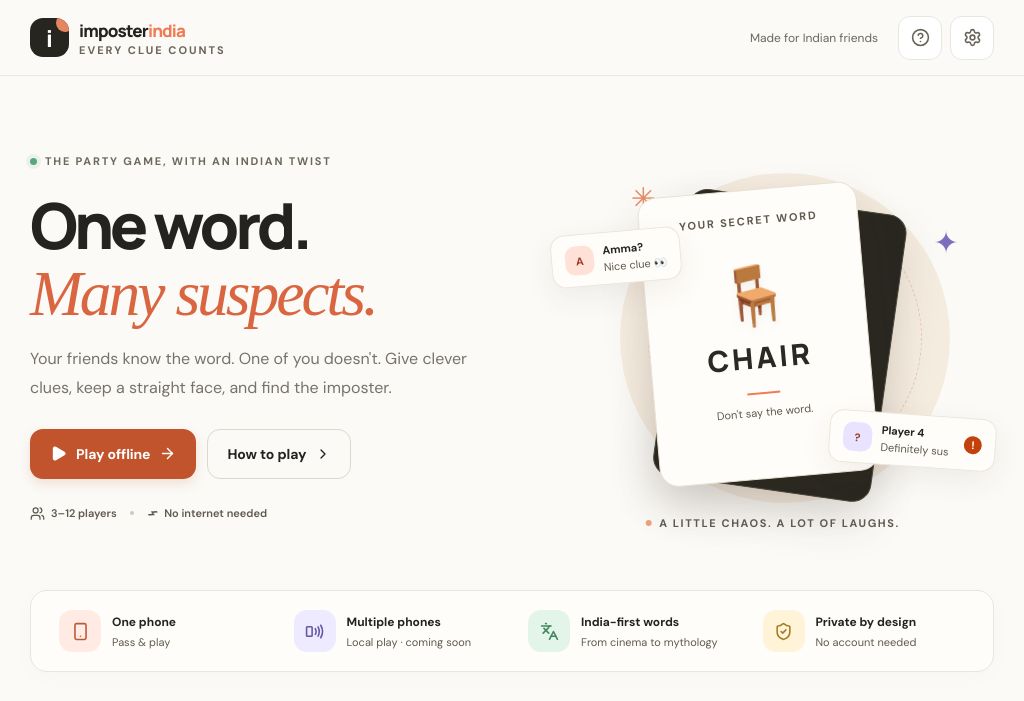
Test case: App: language filter on the setup screen › explains an empty pool and disables the start button
Click the button "Play offline".
click(113, 454)  # box [30,429,196,479]
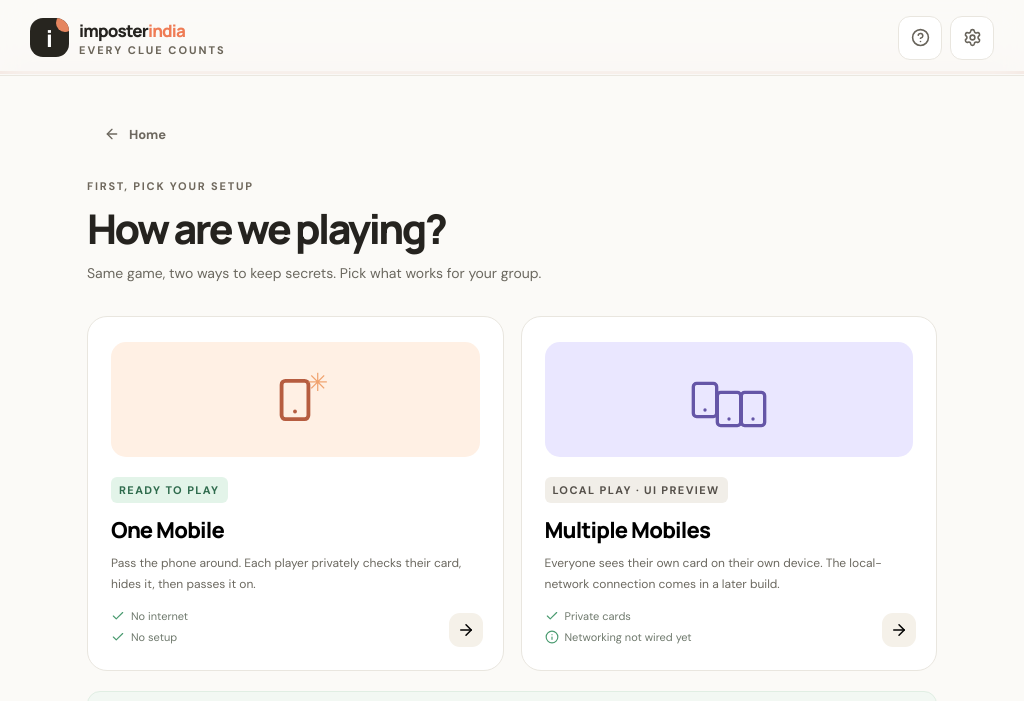
Click the button "One Mobile".
click(295, 400)  # box [87,316,504,671]
(page scrolled)
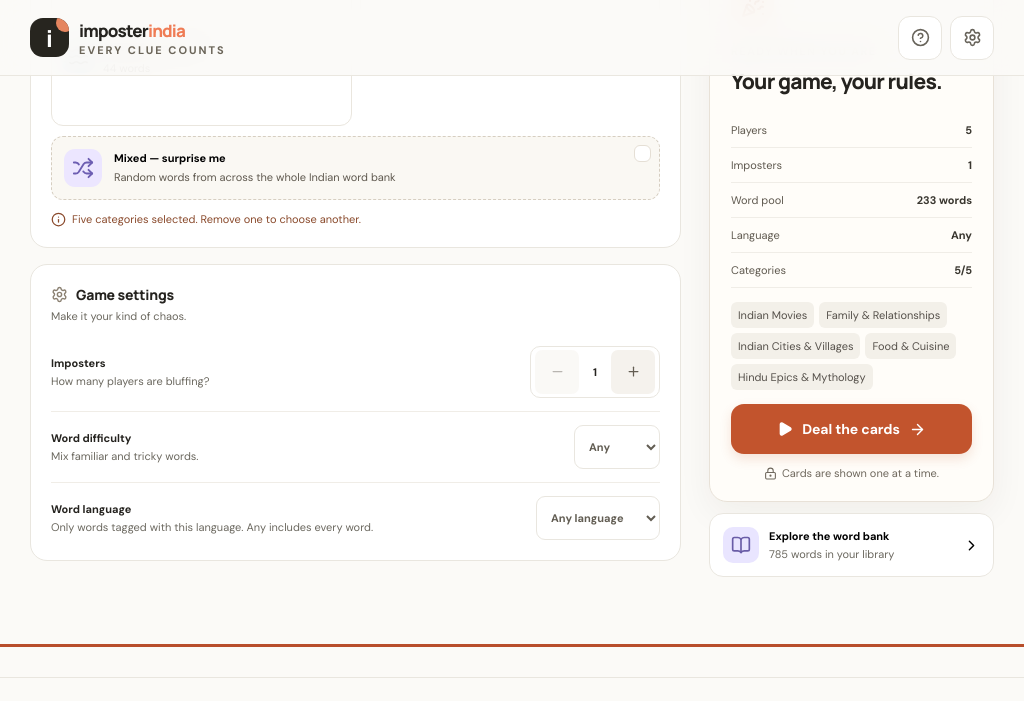
Select "Assamese (7)" in the dropdown named "Word language" at (598, 518), box [536,496,660,540]
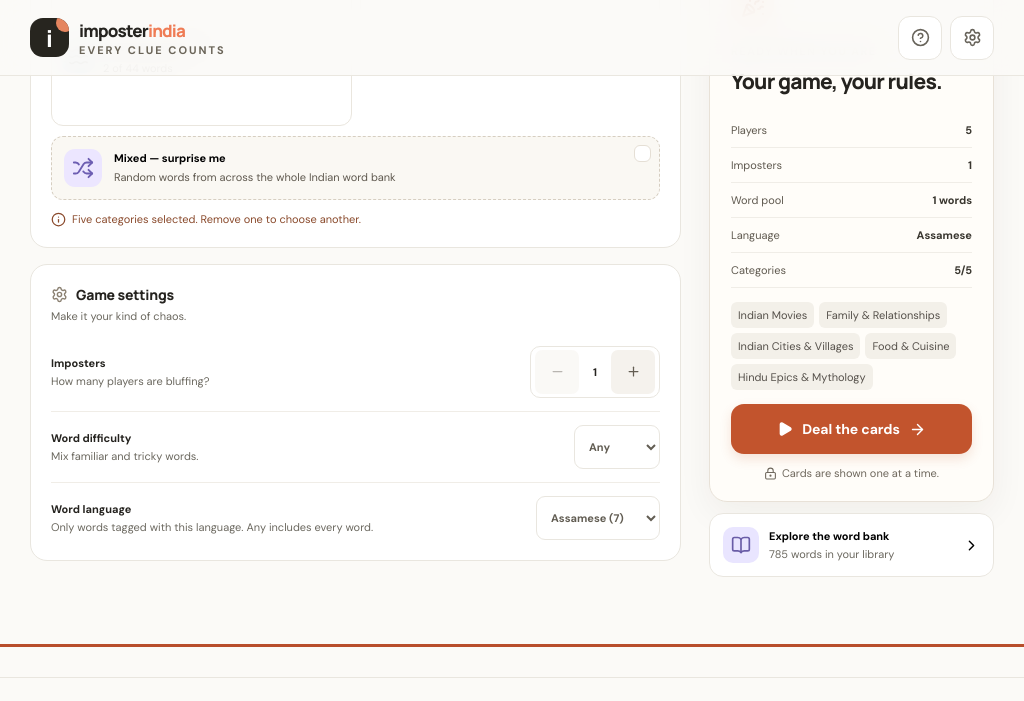
Select "Hard" in the dropdown named "Word difficulty" at (617, 447), box [574,425,660,469]
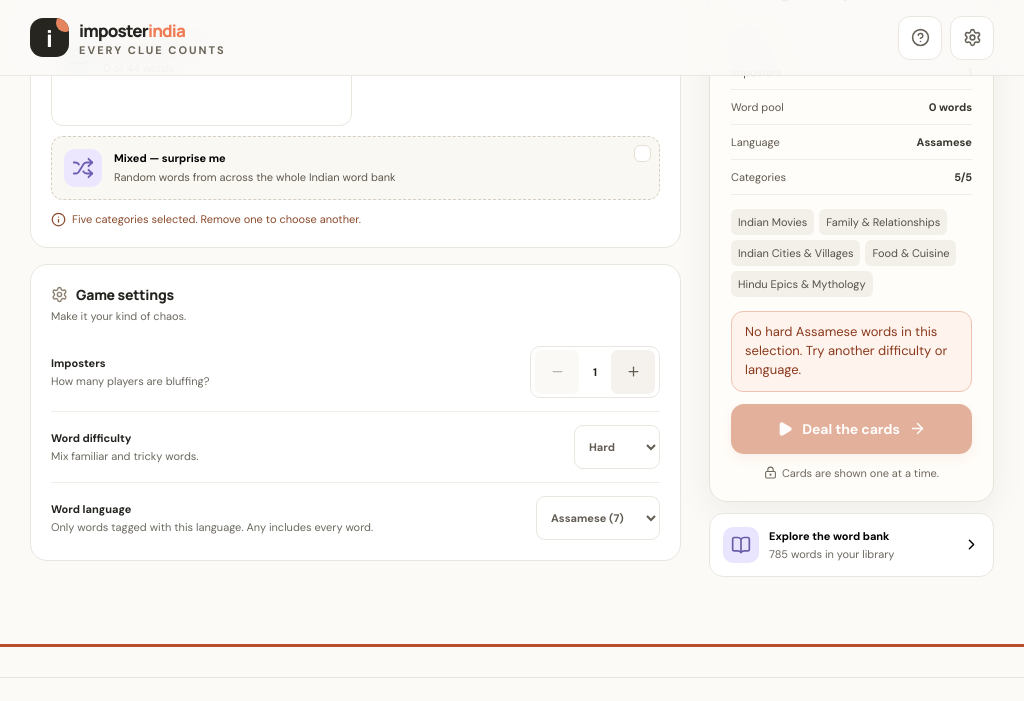
Now the message shows "Assamese", box [745,323,947,378]
Now the button "Deal the cards" is disabled, box [731,404,972,454]
